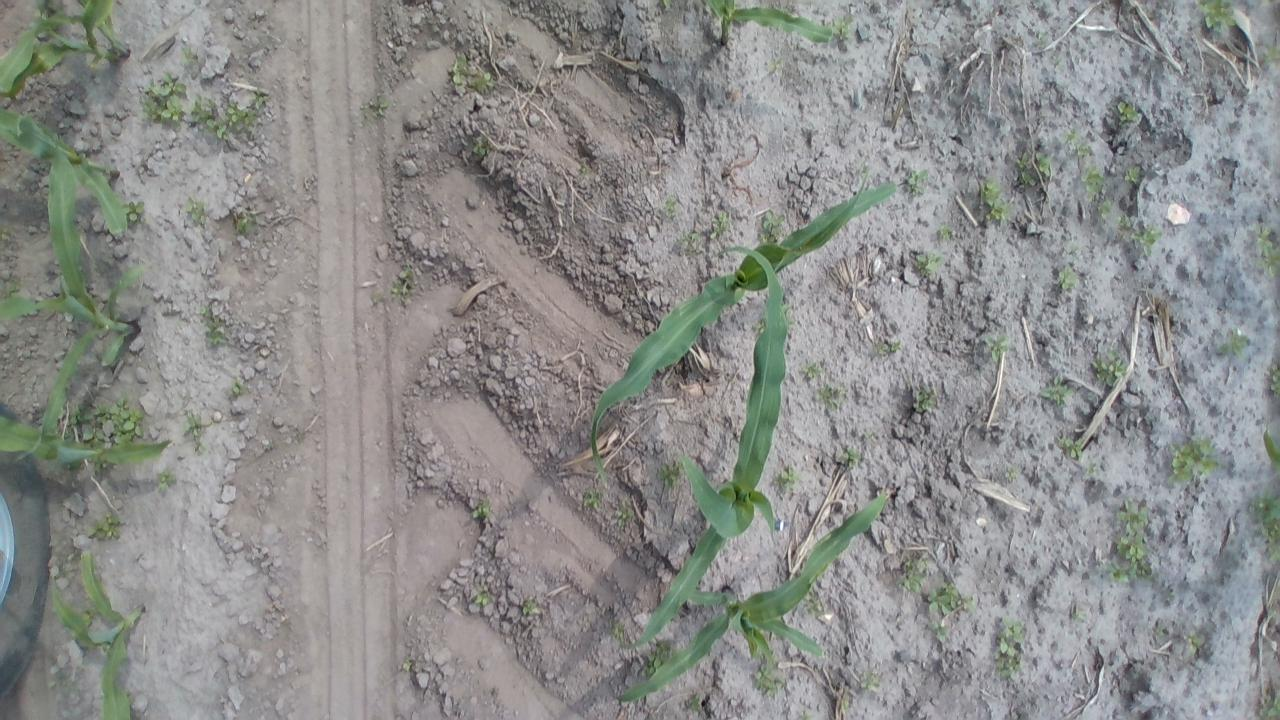Maize: (589, 176, 887, 504), (624, 244, 798, 658), (617, 474, 899, 714), (3, 132, 153, 458), (42, 549, 151, 718), (0, 105, 130, 231), (1, 0, 129, 99), (0, 395, 170, 468), (700, 0, 835, 49)
Weeds: (1104, 498, 1158, 588), (185, 89, 268, 139), (76, 396, 145, 444), (136, 71, 188, 128), (1166, 432, 1220, 482), (924, 584, 971, 624), (1250, 489, 1276, 553), (978, 176, 1011, 222), (994, 614, 1027, 660), (750, 658, 786, 698), (1090, 353, 1128, 390), (896, 554, 930, 593), (1038, 374, 1076, 408), (1253, 224, 1276, 280), (200, 304, 227, 350), (1198, 1, 1236, 33), (641, 637, 674, 673), (816, 382, 849, 413), (916, 252, 947, 284), (388, 267, 416, 302), (655, 458, 685, 490), (1220, 329, 1250, 360), (994, 648, 1023, 680), (1064, 127, 1092, 159), (758, 210, 784, 244), (95, 512, 124, 542), (773, 464, 802, 494), (448, 50, 472, 86), (1134, 222, 1162, 252), (1054, 264, 1080, 296), (910, 382, 936, 413), (1080, 165, 1104, 198), (1014, 154, 1038, 186), (184, 412, 208, 444), (985, 331, 1011, 360), (1056, 433, 1084, 459), (120, 199, 146, 227), (1115, 99, 1140, 128), (709, 209, 732, 240), (1259, 429, 1276, 470), (830, 15, 854, 44), (360, 94, 390, 116), (184, 198, 209, 224), (904, 170, 928, 196), (1258, 688, 1277, 720), (234, 211, 258, 235), (48, 673, 78, 692), (614, 498, 634, 526), (927, 620, 950, 644), (804, 590, 824, 617), (1186, 630, 1206, 656), (610, 618, 630, 644), (800, 361, 824, 382), (859, 670, 881, 692), (473, 498, 494, 521), (584, 486, 604, 510), (474, 70, 496, 91), (520, 596, 542, 617), (840, 446, 861, 468), (1094, 198, 1114, 221), (1036, 151, 1052, 179), (473, 589, 496, 608), (687, 692, 711, 710), (78, 604, 98, 625), (156, 469, 174, 492), (472, 136, 492, 156), (179, 45, 198, 66), (681, 228, 703, 246), (661, 194, 679, 216), (228, 376, 246, 397), (935, 222, 953, 241), (881, 339, 902, 355), (1084, 459, 1100, 479), (1004, 465, 1022, 482), (1070, 604, 1087, 622), (1266, 366, 1276, 396), (1124, 166, 1140, 184), (1050, 54, 1066, 70), (838, 695, 853, 712), (1262, 44, 1276, 62), (861, 430, 879, 442)
